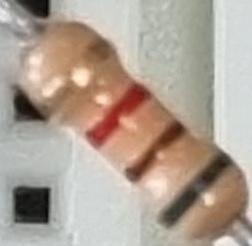Brown: (119, 116, 189, 187)
Green: (153, 149, 232, 231)
Red: (82, 79, 152, 150)
Side-Silver: (34, 35, 116, 119)
